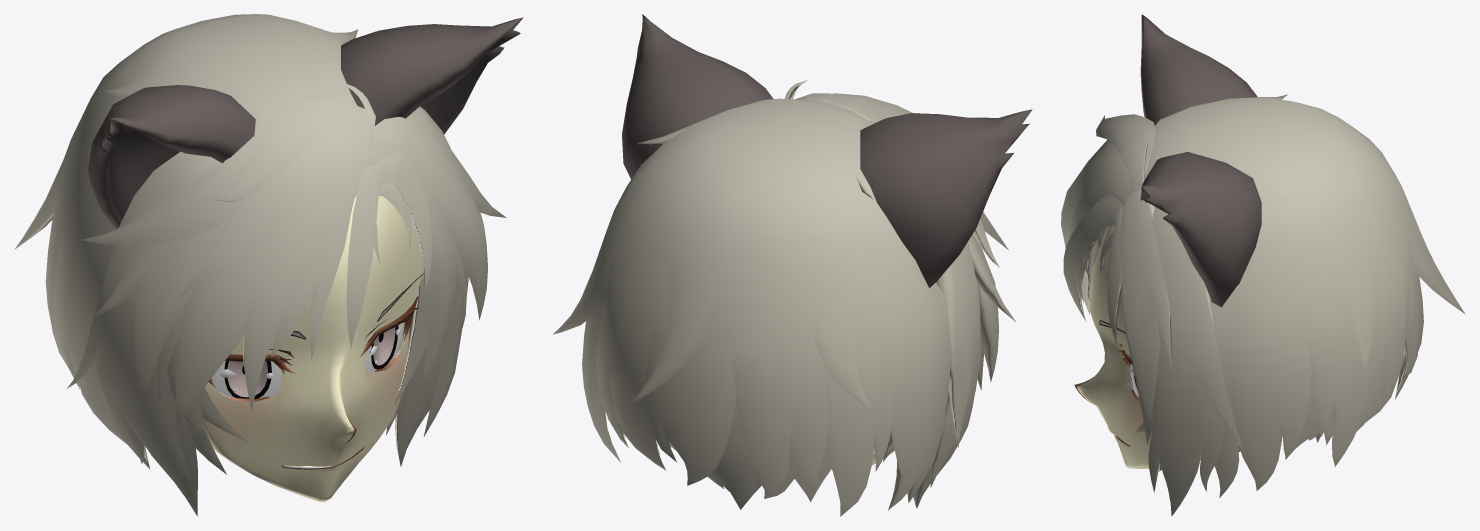
File: yuko_head0406.FBX
3 views of the same model, side by side, from view 1: azimuth 30°, elevation 25°; view 2: azimuth 150°, elevation 25°; view 3: azimuth 270°, elevation 25° (orthographic). The views are drawn at different scales.
Parts seen in each view (by area): view 1: hair, head, eyeBall, eyeline; view 2: hair; view 3: hair, head.
Part boxes in pixels (<box>): hair: <box>14,14,523,516</box>; head: <box>202,196,422,502</box>; eyeBall: <box>211,322,404,399</box>; eyeline: <box>209,296,418,401</box>; hair: <box>553,14,1032,516</box>; hair: <box>1061,14,1465,516</box>; head: <box>1077,225,1200,468</box>.
Bounding box in the file's own units: 24.32 × 24.43 × 23.95.
